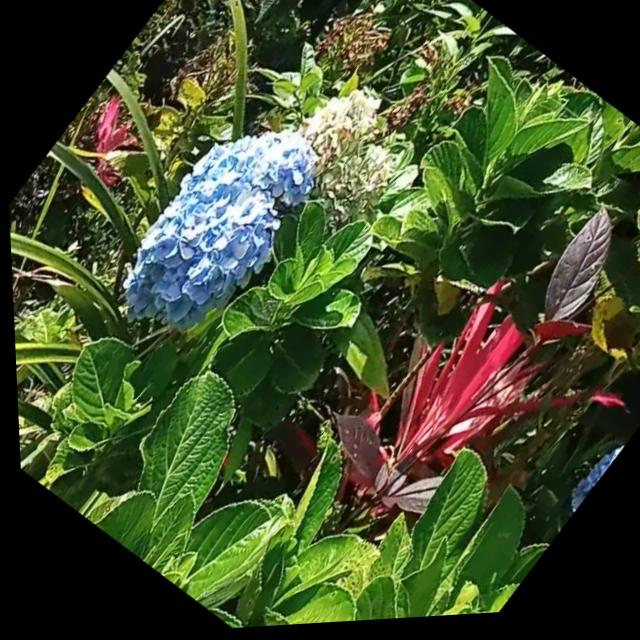Flower: (85, 93, 341, 368)
